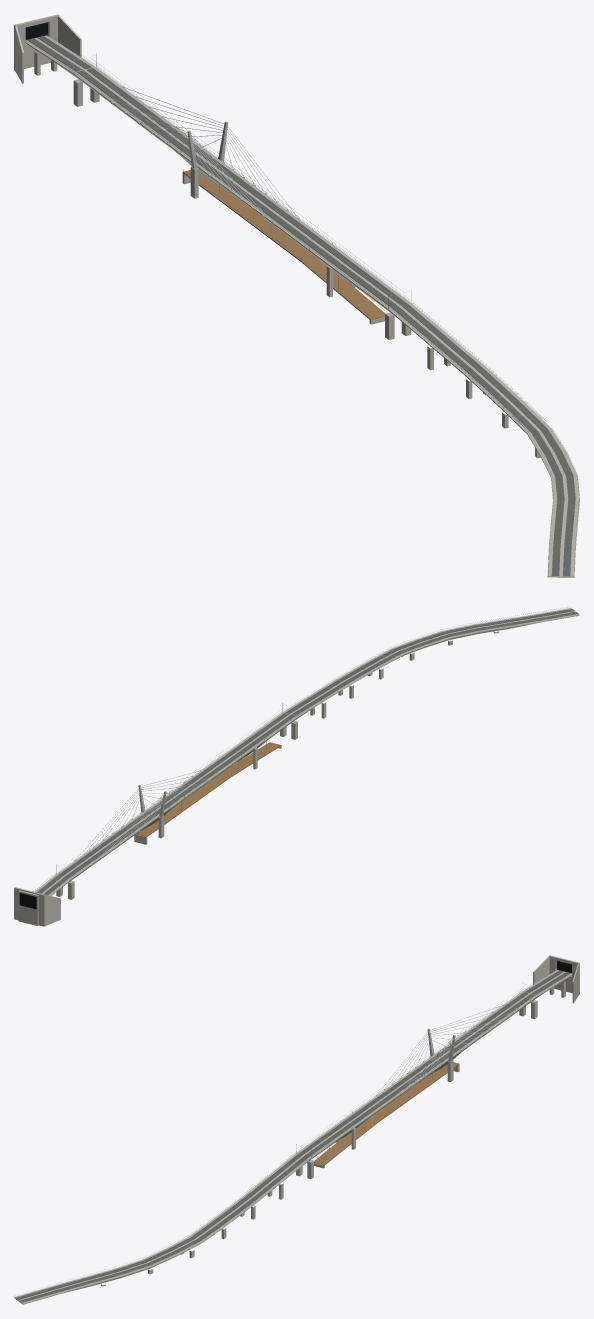
The model's file is tawatina-bridge-far.glb.
3 views of the same model, one above another, from view 1: azimuth 30°, elevation 25°; view 2: azimuth 150°, elevation 25°; view 3: azimuth 330°, elevation 25° (orthographic). The views are drawn at different scales.
Parts seen in each view (by area): view 1: tawatina-bridge-0-concrete, tawatina-bridge-0-track, tawatina-bridge-0-timber, tawatina-bridge-0-steel, tawatina-bridge-0-rail; view 2: tawatina-bridge-0-concrete, tawatina-bridge-0-track, tawatina-bridge-0-timber, tawatina-bridge-0-steel, tawatina-bridge-0-rail; view 3: tawatina-bridge-0-concrete, tawatina-bridge-0-track, tawatina-bridge-0-timber, tawatina-bridge-0-steel, tawatina-bridge-0-rail.
Part boxes in pixels (left/top/right/bottom): tawatina-bridge-0-concrete: left=14, top=14, right=579, bottom=577; tawatina-bridge-0-track: left=27, top=36, right=575, bottom=576; tawatina-bridge-0-timber: left=183, top=170, right=385, bottom=320; tawatina-bridge-0-steel: left=73, top=53, right=411, bottom=305; tawatina-bridge-0-rail: left=26, top=33, right=579, bottom=574; tawatina-bridge-0-concrete: left=14, top=608, right=579, bottom=926; tawatina-bridge-0-track: left=37, top=609, right=578, bottom=895; tawatina-bridge-0-timber: left=136, top=742, right=281, bottom=836; tawatina-bridge-0-steel: left=56, top=703, right=297, bottom=871; tawatina-bridge-0-rail: left=33, top=606, right=578, bottom=895; tawatina-bridge-0-concrete: left=14, top=955, right=579, bottom=1304; tawatina-bridge-0-track: left=16, top=970, right=570, bottom=1302; tawatina-bridge-0-timber: left=314, top=1062, right=458, bottom=1165; tawatina-bridge-0-steel: left=296, top=984, right=537, bottom=1155; tawatina-bridge-0-rail: left=15, top=968, right=569, bottom=1298.
Size of the model in its own units: 80.1 by 30.01 by 538.
